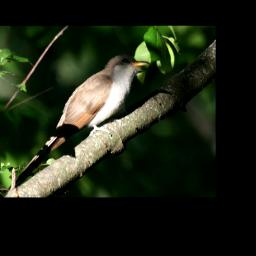Cuckoo: (9, 54, 150, 190)
